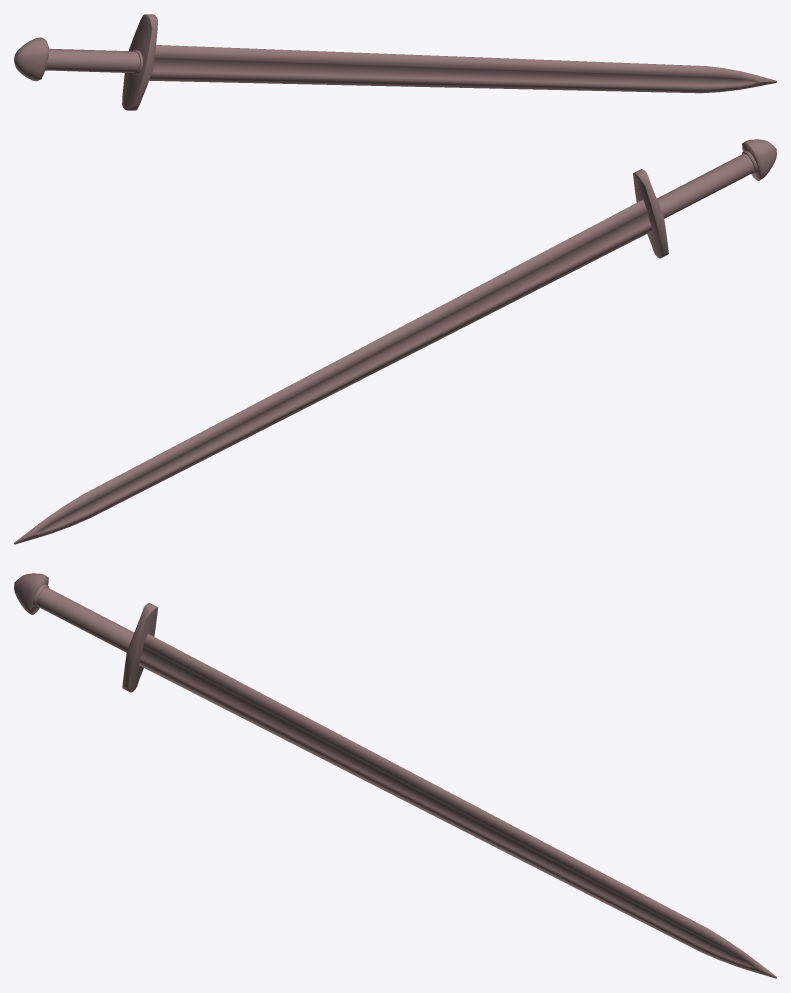
File: Sword_OH 1.fbx
3 renders of one model, top to bottom at view 1: azimuth 30°, elevation 25°; view 2: azimuth 210°, elevation 25°; view 3: azimuth 330°, elevation 25°, orthographic.
Visible parts, largest first — view 1: Sword_OH_1; view 2: Sword_OH_1; view 3: Sword_OH_1.
Boxes of the visible parts, box(x1,y1,x2,y2) form: Sword_OH_1: box(14, 14, 776, 110); Sword_OH_1: box(14, 139, 776, 544); Sword_OH_1: box(14, 573, 776, 978).
Size of the model in its own units: 165 by 46.18 by 6.98.
